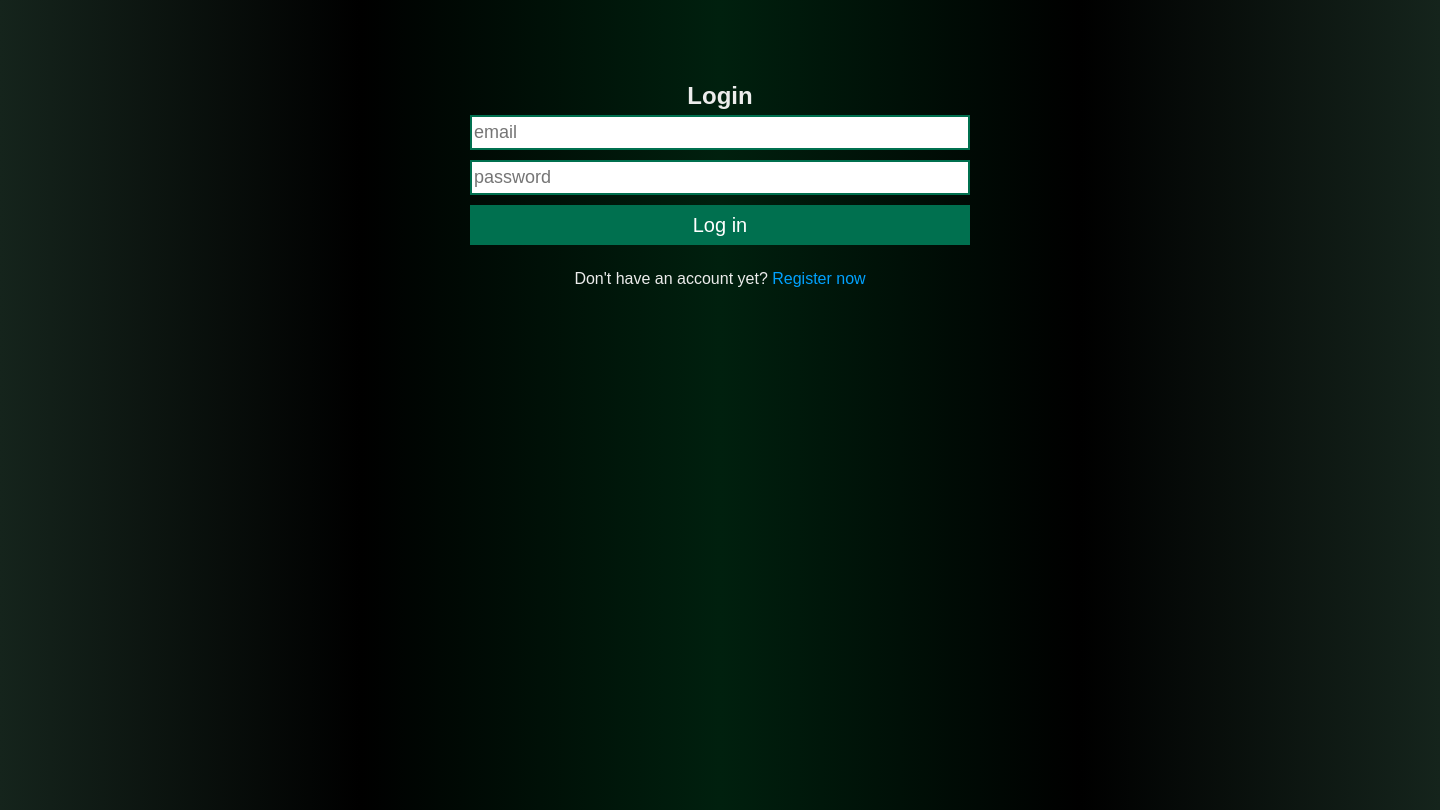
Test: shows error message on invalid credentials
Type "wrong@example.com" into the field with placeholder "email".
click(720, 132); type("wrong@example.com")  # box [470, 115, 970, 150]
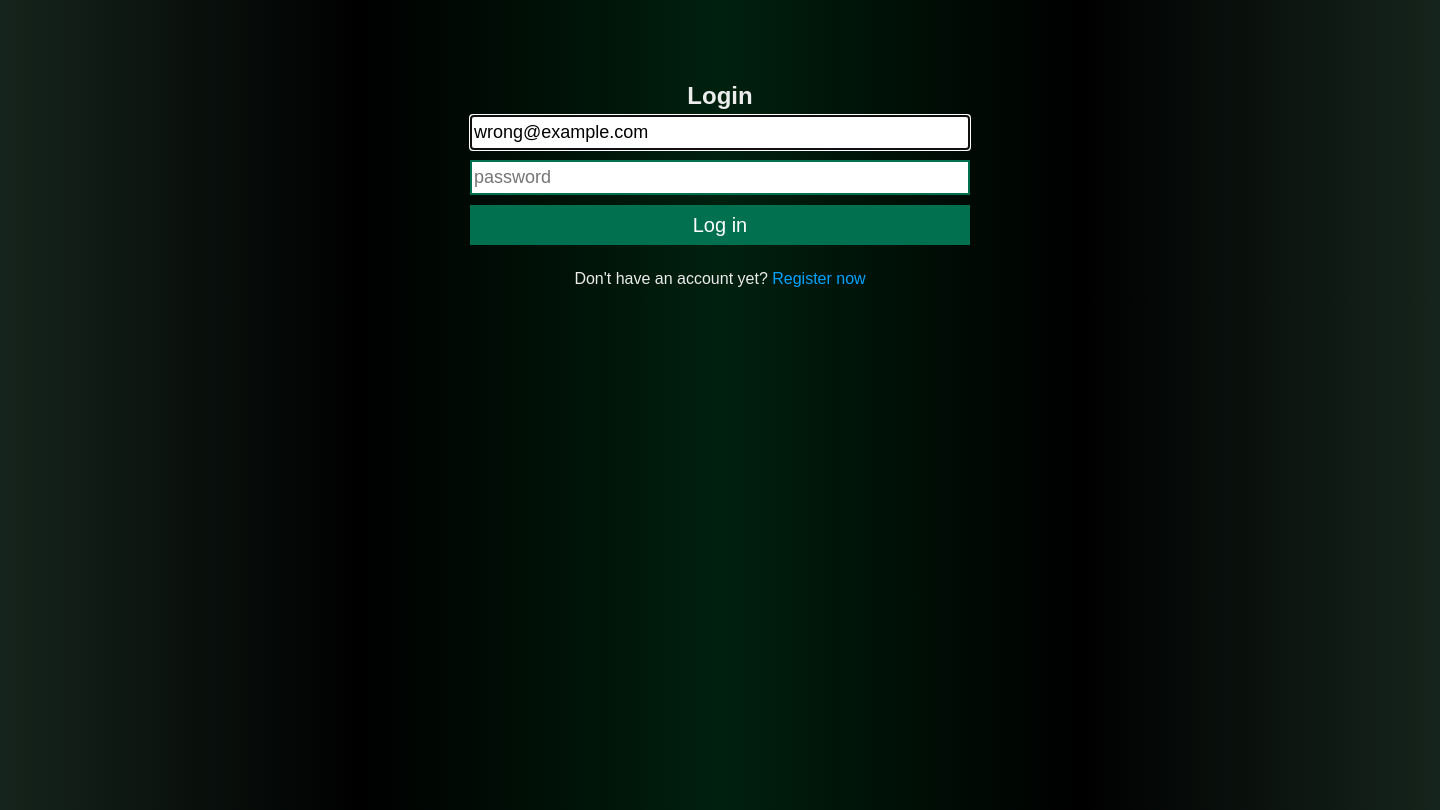
Type "wrongpassword" into the password field with placeholder "password".
click(720, 178); type("wrongpassword")  # box [470, 160, 970, 195]
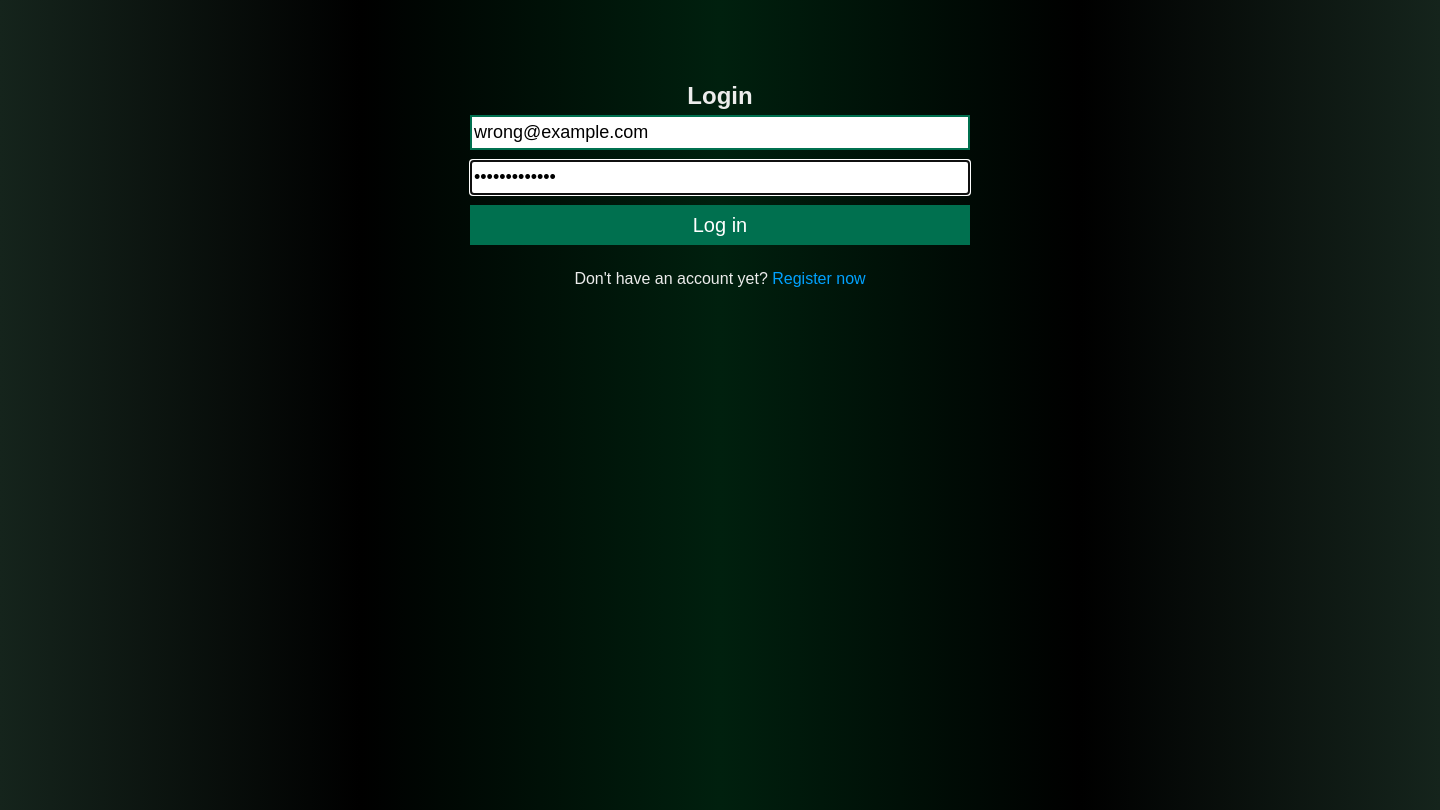
Click the button "Log in".
click(720, 225)  # box [470, 205, 970, 245]
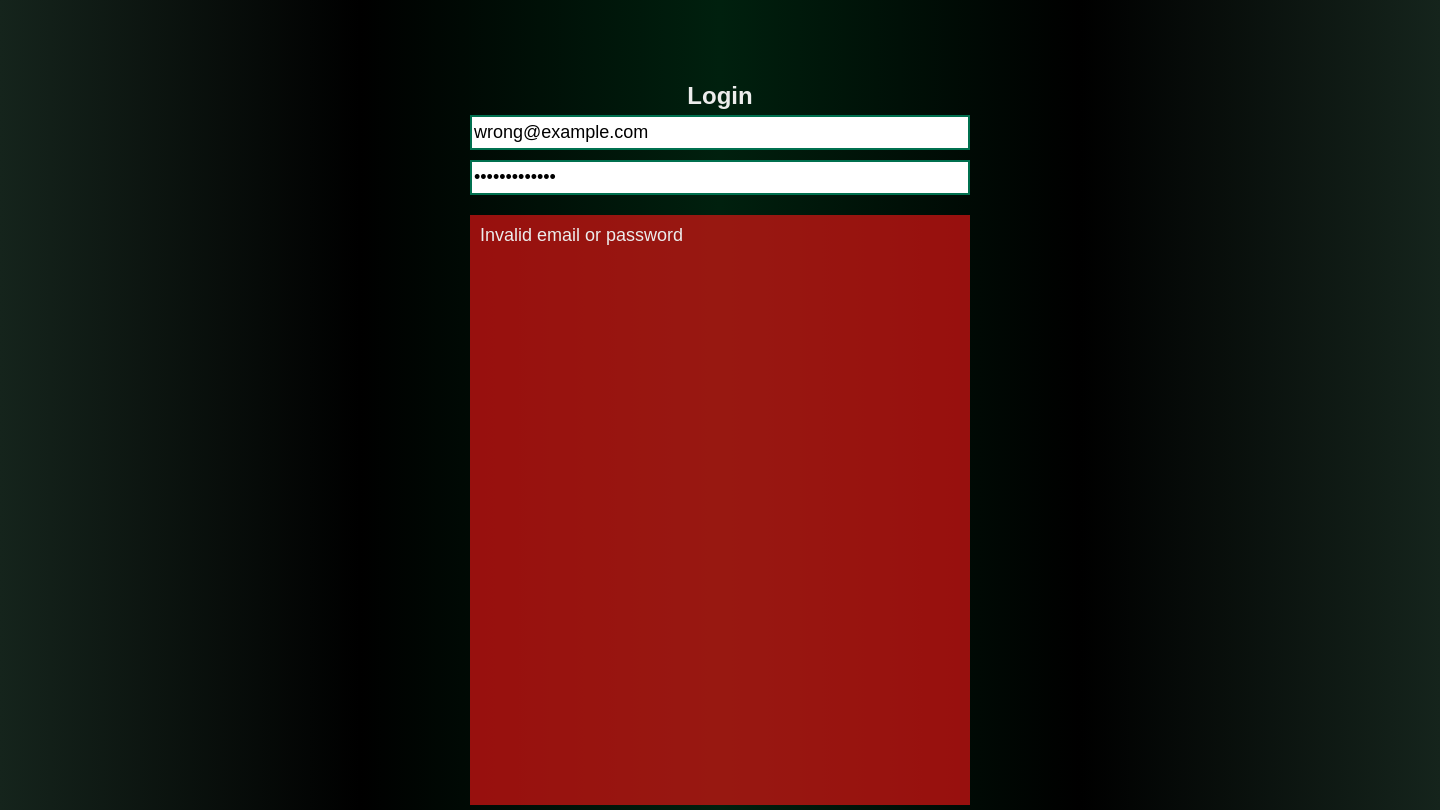
Check: the text "Invalid email or password" is shown, box [470, 215, 970, 805]
